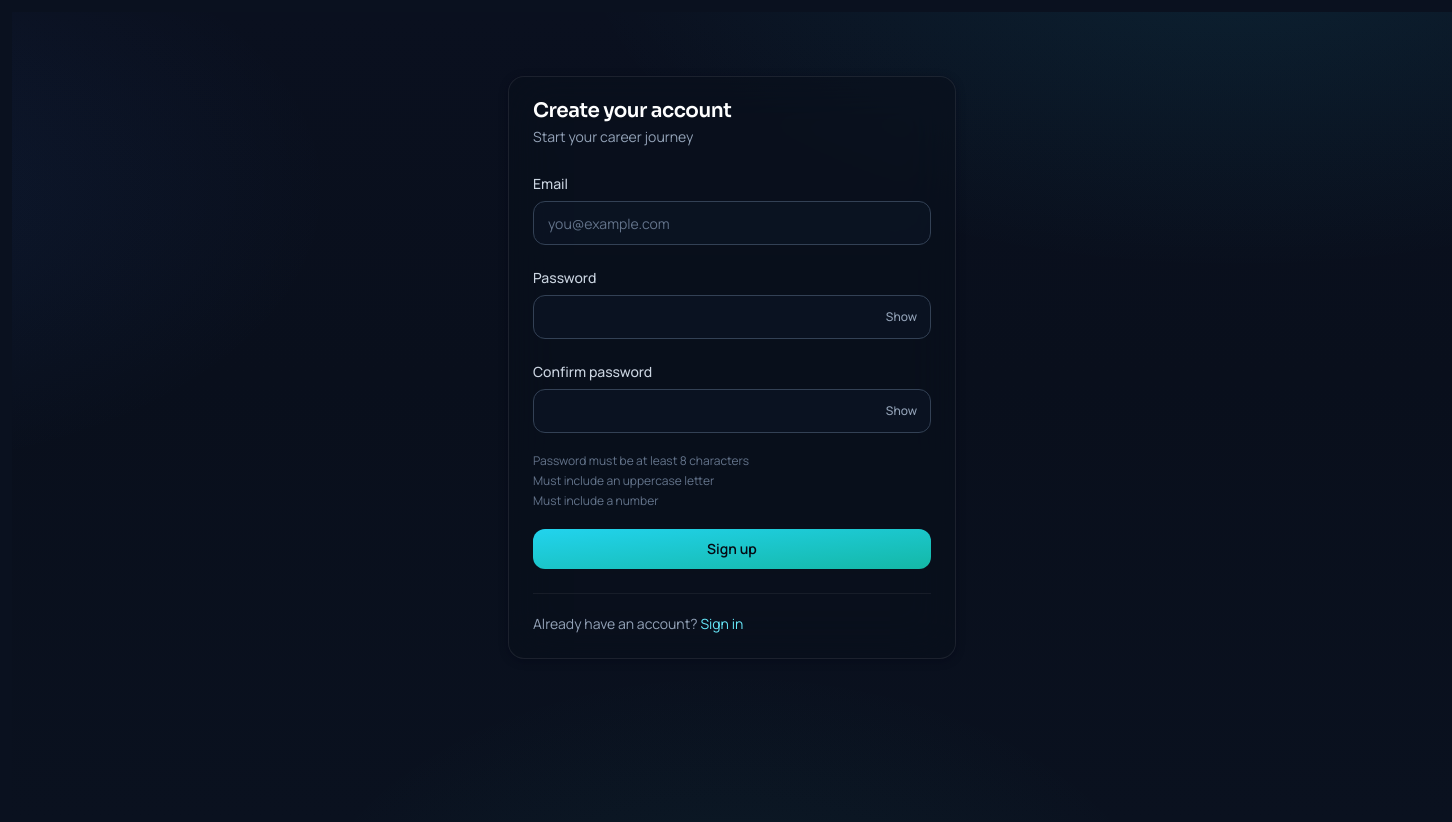
Test: SignupPage flow › navigates to Home when signup succeeds without needing verification (confirmation disabled)
This screenshot has width=1452, height=822.
Type "user@example.com" into the field labelled "Email" at [732, 223], box [533,201,931,245]
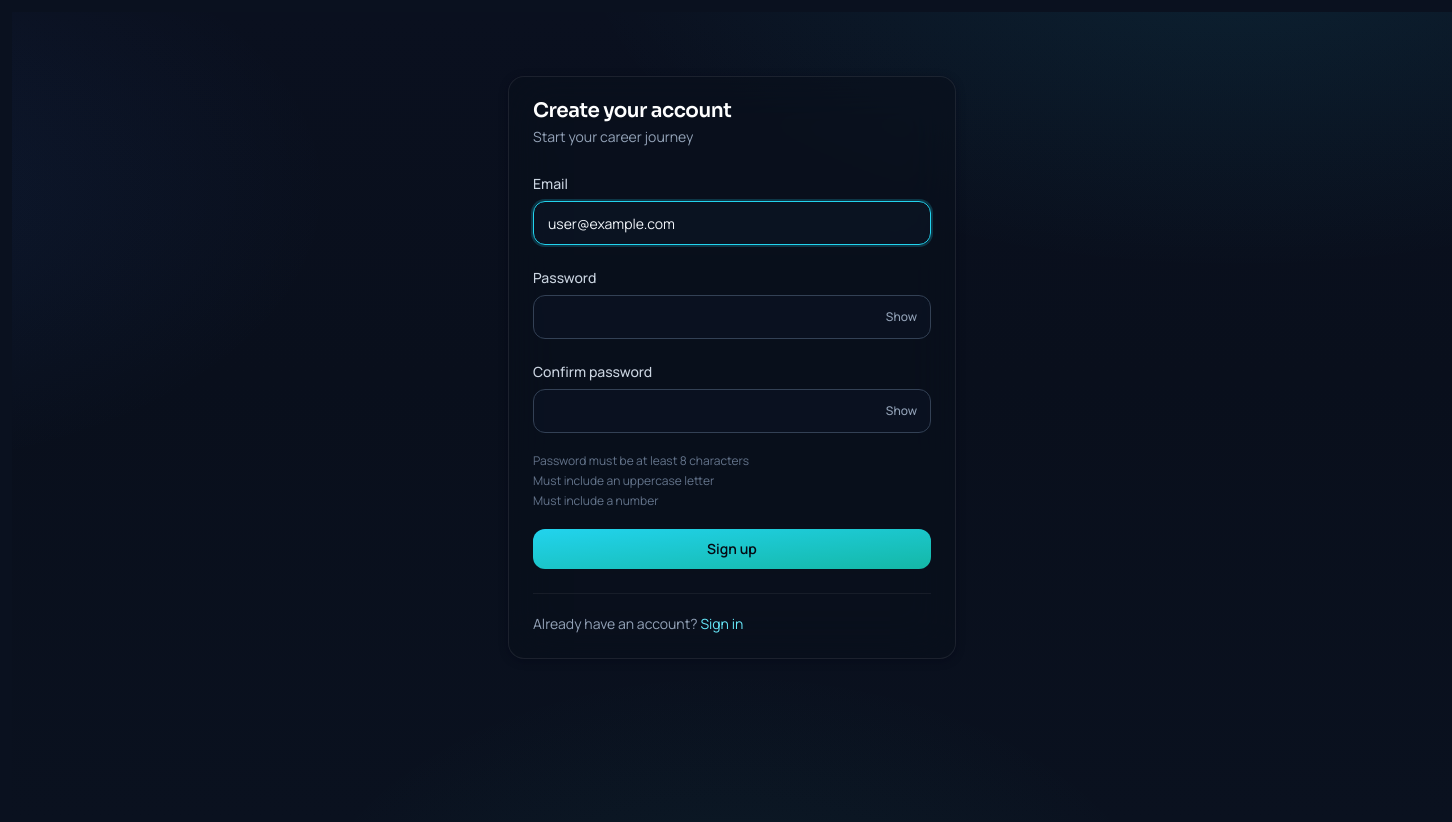
Type "StrongPass123" into the password field labelled "Password" at [732, 317], box [533,295,931,339]
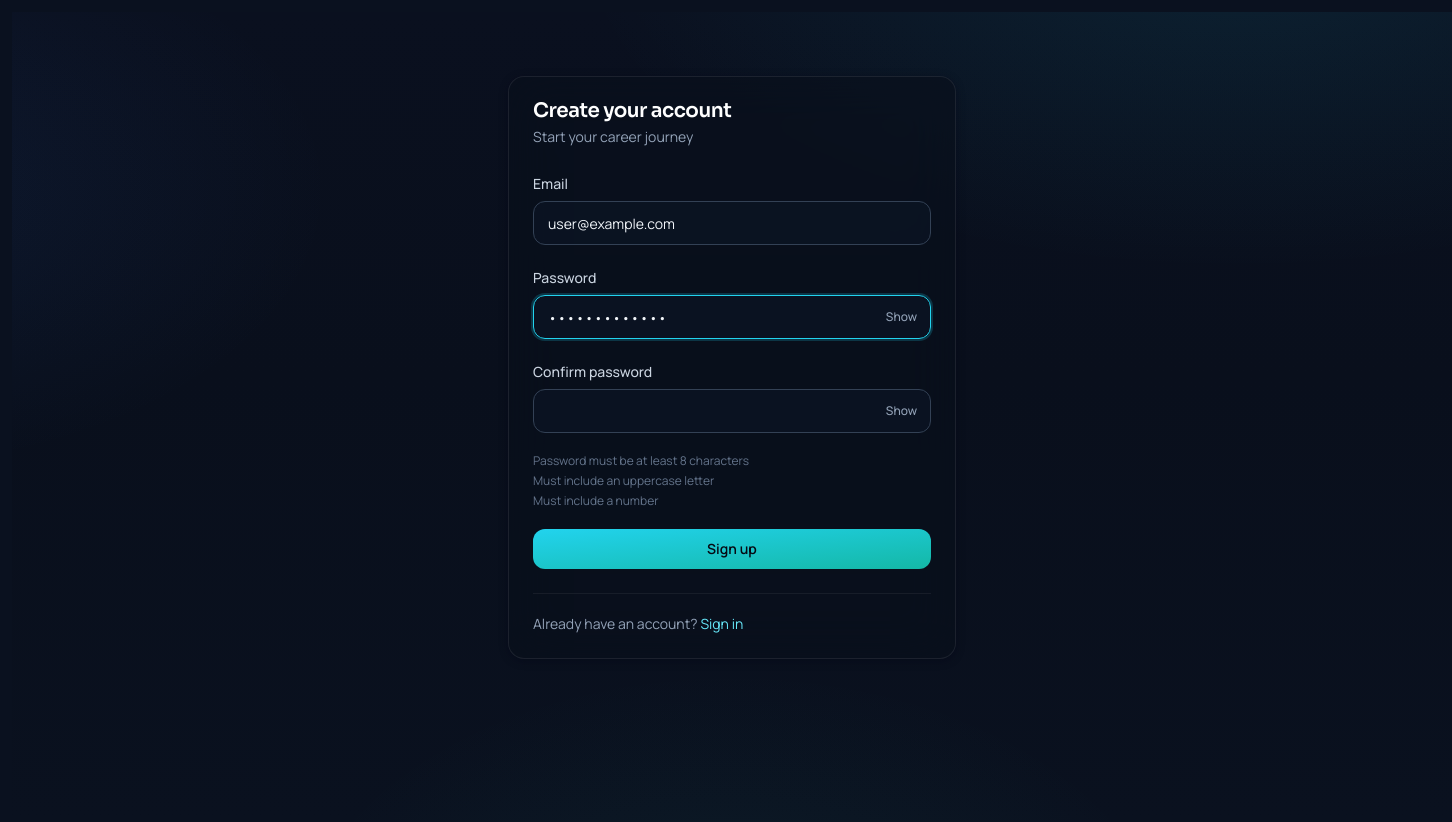
Type "StrongPass123" into the password field labelled "Confirm password" at [732, 411], box [533,389,931,433]
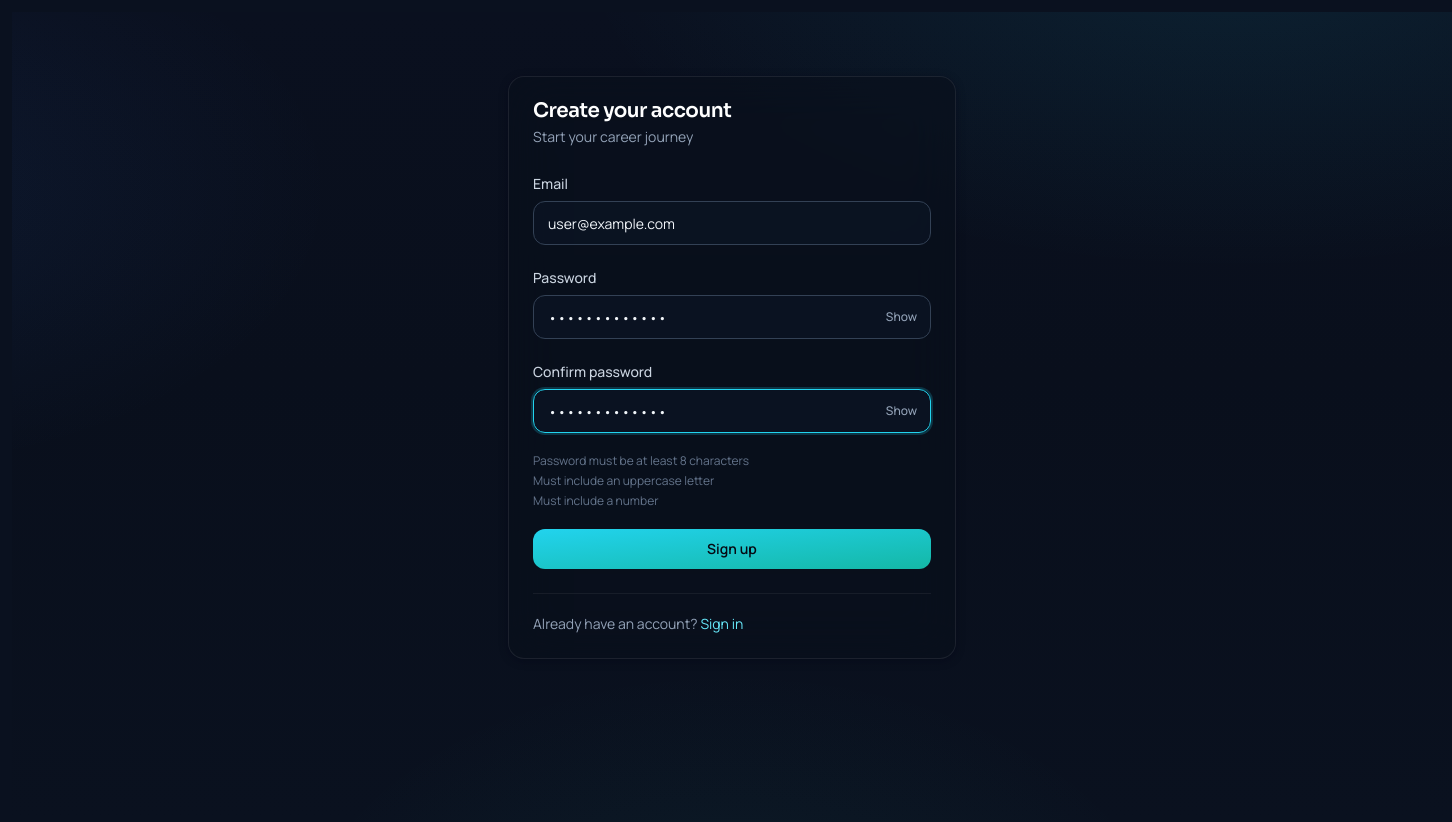
Click the button "Sign up" at [732, 549], box [533,529,931,569]
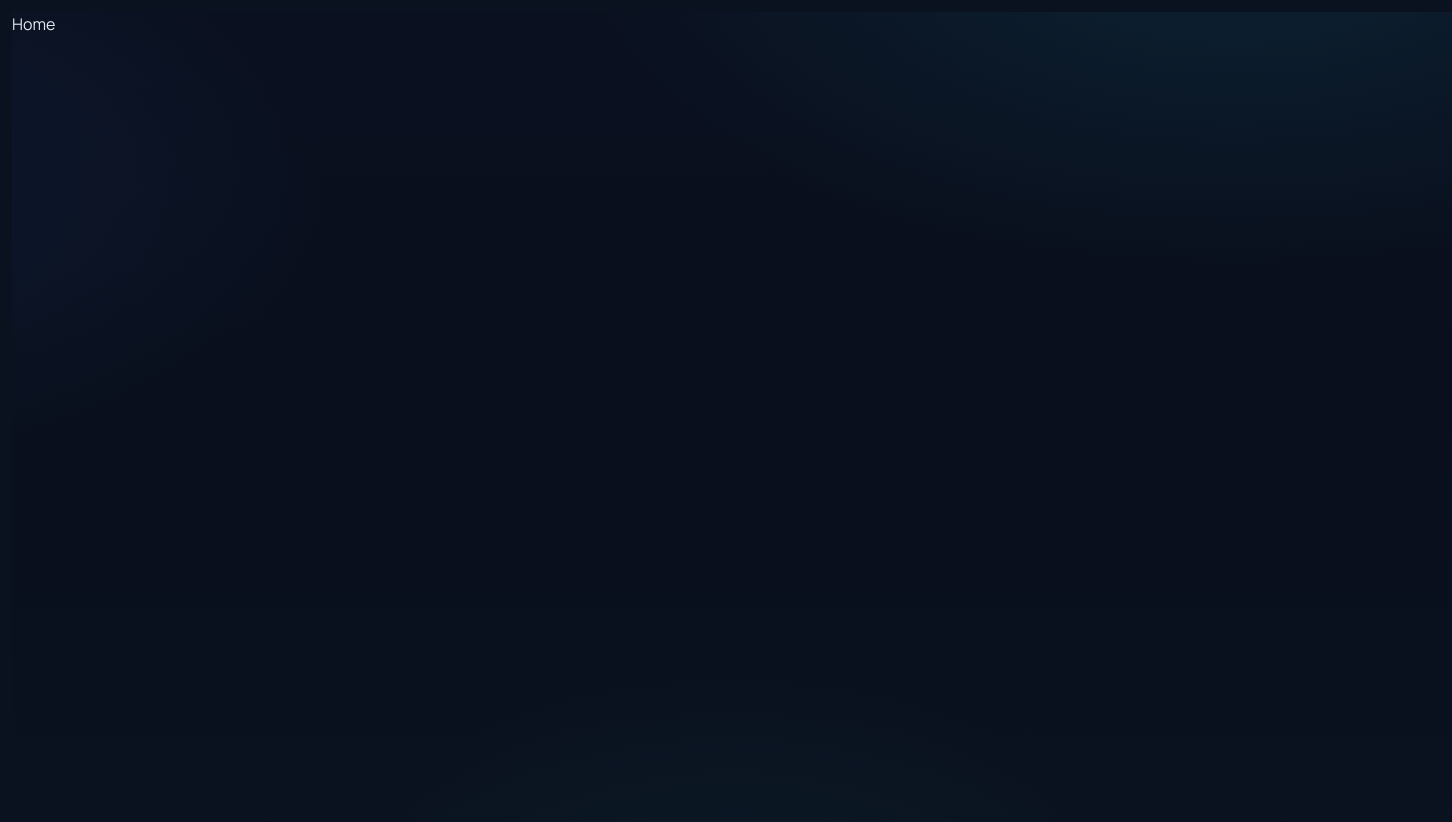
Expected: the text "Home" is shown, [12,13,55,35]
